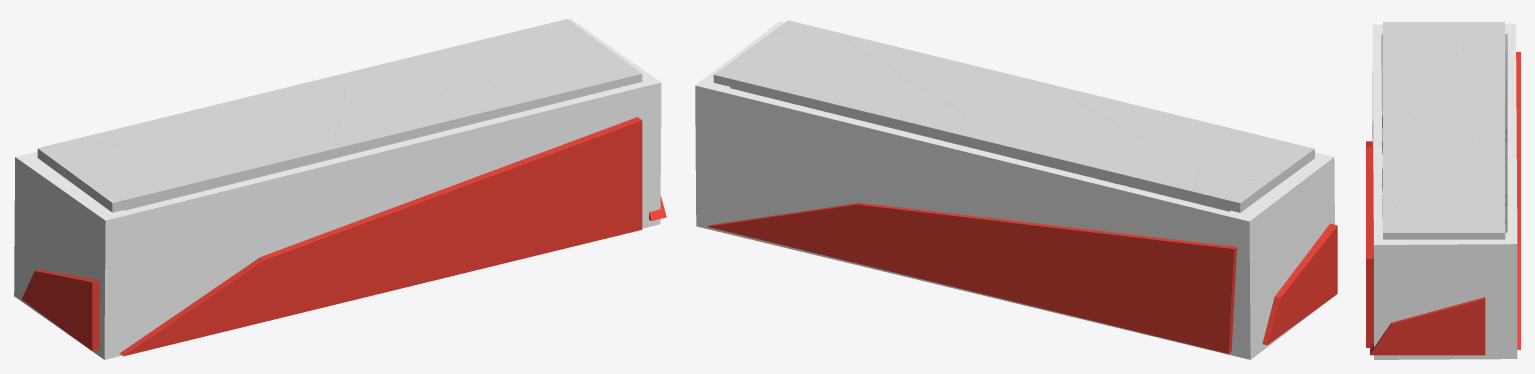
The model's file is horizontalFreezer.fbx.
3 views of the same model, side by side, from view 1: azimuth 30°, elevation 25°; view 2: azimuth 150°, elevation 25°; view 3: azimuth 270°, elevation 25° (orthographic). The views are drawn at different scales.
Visible parts, largest first — view 1: mesh_1983638583, fracturedGlass, fracturedGlass.001, fracturedGlass.003, fracturedGlass.005, fracturedGlass.002, fracturedGlass.004; view 2: mesh_1983638583, fracturedGlass, fracturedGlass.003, fracturedGlass.001, fracturedGlass.005, fracturedGlass.002, fracturedGlass.004; view 3: mesh_1983638583, fracturedGlass, fracturedGlass.003, fracturedGlass.001, fracturedGlass.005, fracturedGlass.002, fracturedGlass.004.
Boxes of the visible parts, x1,y1,x2,y2 form: mesh_1983638583: [14, 19, 666, 359]; fracturedGlass: [334, 19, 626, 91]; fracturedGlass.001: [64, 138, 339, 212]; fracturedGlass.003: [83, 76, 345, 149]; fracturedGlass.005: [334, 85, 587, 157]; fracturedGlass.002: [37, 137, 130, 177]; fracturedGlass.004: [565, 62, 642, 95]; mesh_1983638583: [695, 21, 1337, 359]; fracturedGlass: [713, 31, 970, 141]; fracturedGlass.003: [946, 100, 1197, 201]; fracturedGlass.001: [1074, 93, 1314, 192]; fracturedGlass.005: [849, 35, 1088, 119]; fracturedGlass.002: [1191, 168, 1267, 212]; fracturedGlass.004: [773, 20, 850, 42]; mesh_1983638583: [1366, 23, 1520, 359]; fracturedGlass: [1395, 137, 1505, 239]; fracturedGlass.003: [1400, 40, 1504, 139]; fracturedGlass.001: [1383, 22, 1463, 114]; fracturedGlass.005: [1383, 112, 1473, 207]; fracturedGlass.002: [1460, 22, 1505, 49]; fracturedGlass.004: [1383, 205, 1407, 239].
Size of the model in its own units: 2509 by 646 by 727.
